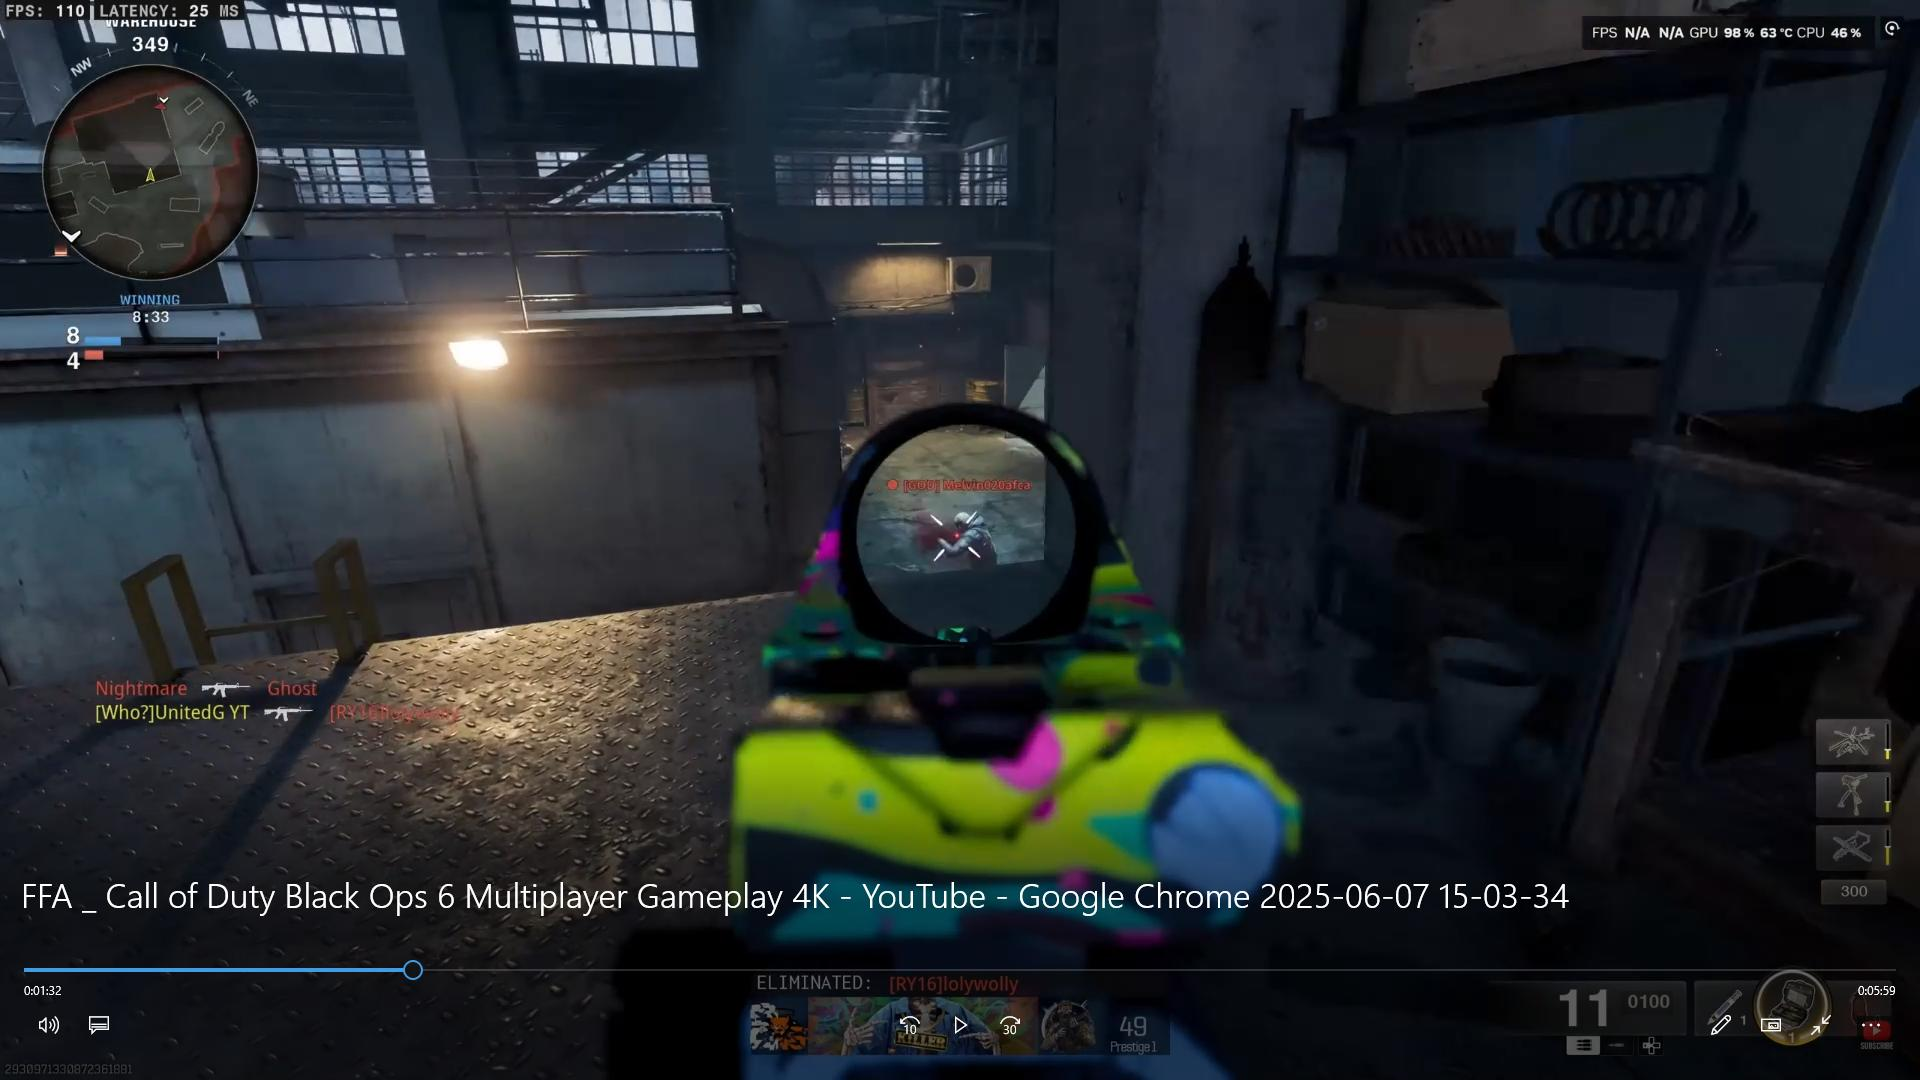Enemy: (922, 501, 1010, 579)
